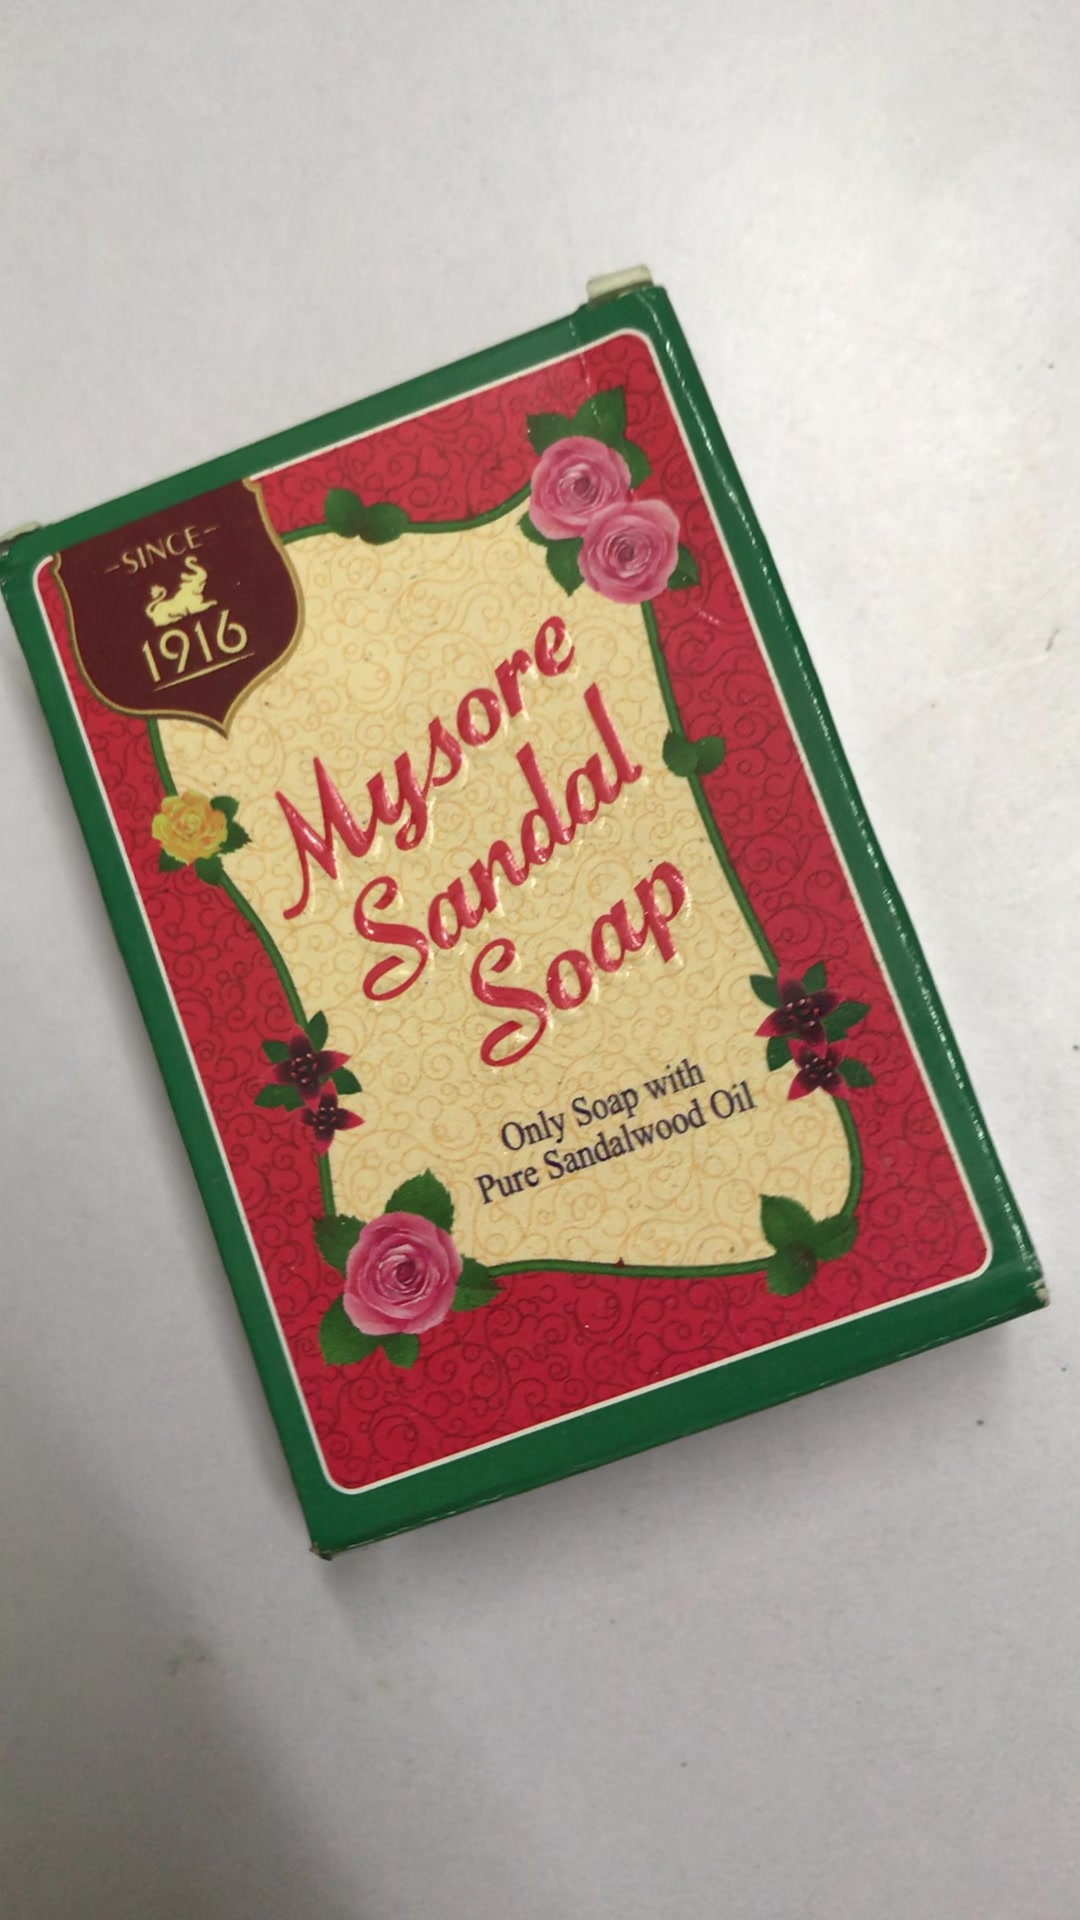mysore sandal soap: (7, 277, 1054, 1561)
